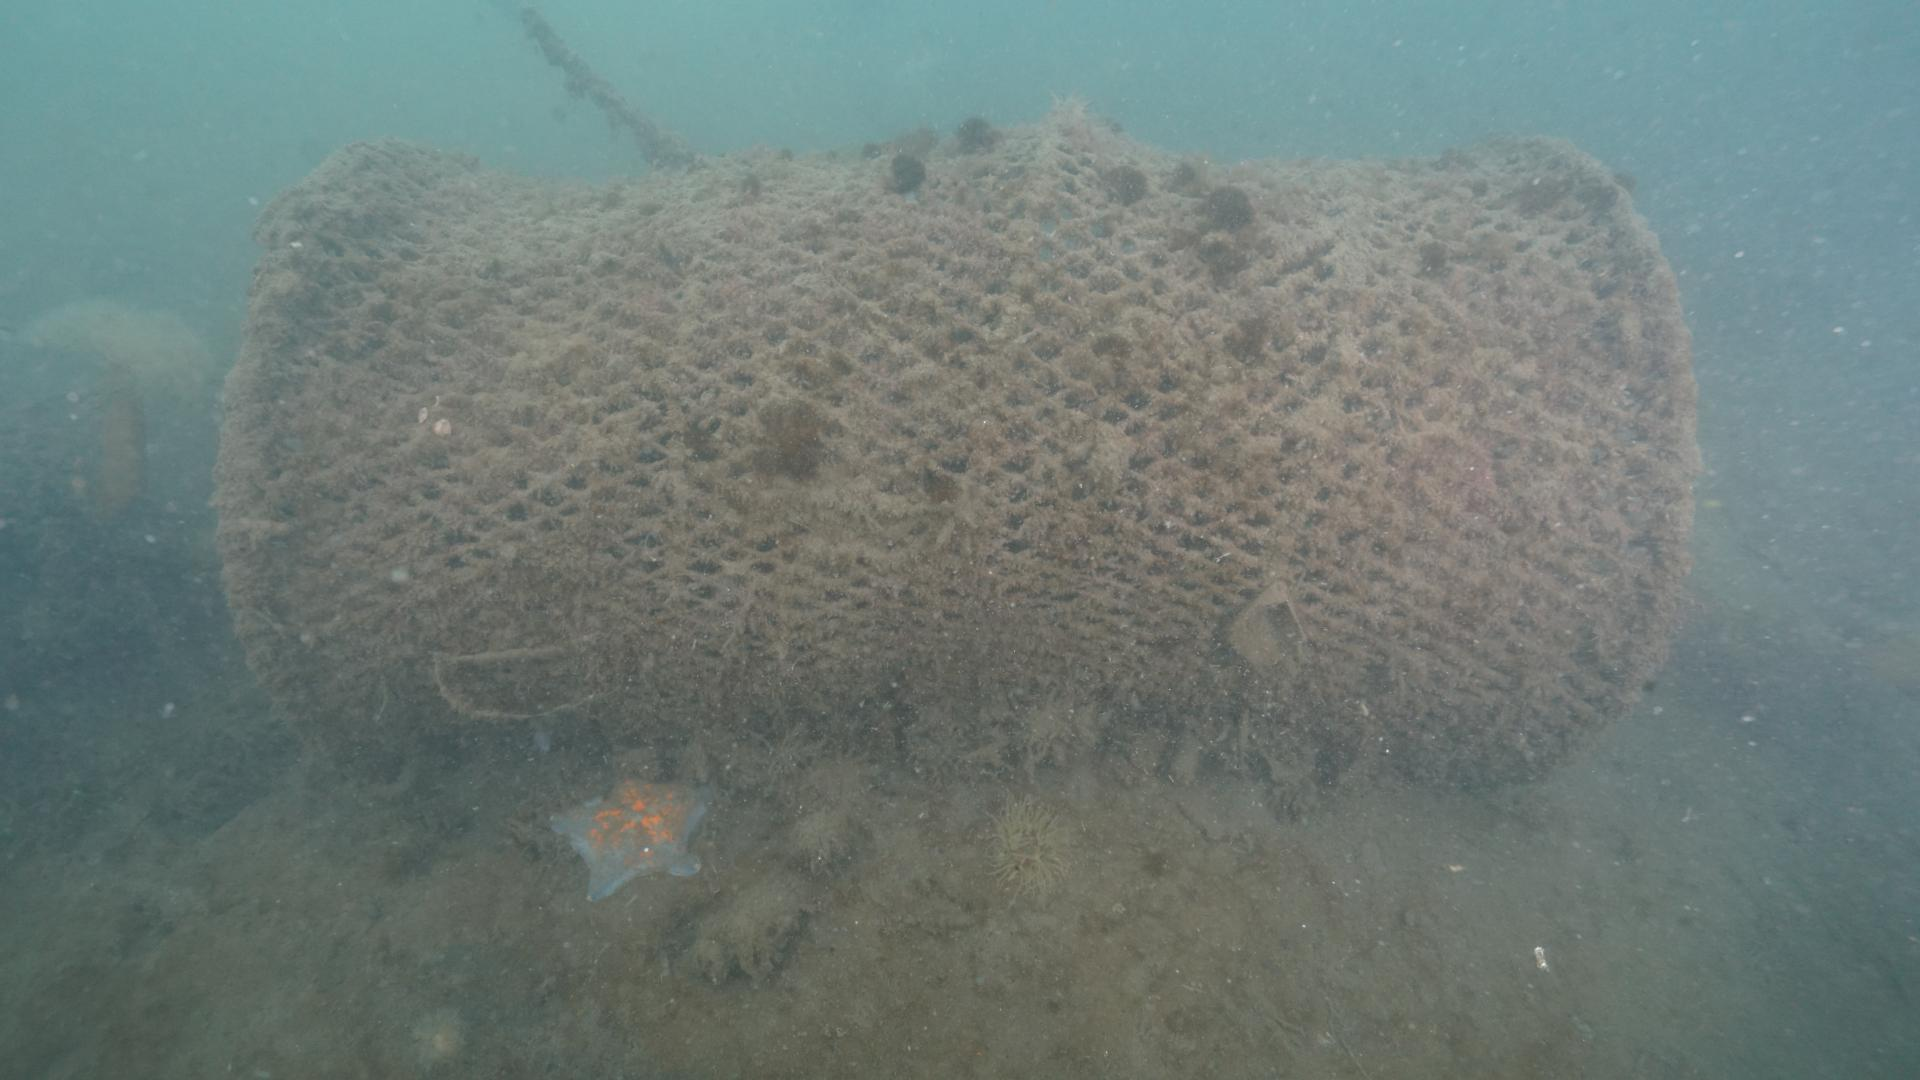rope: (506, 0, 694, 158)
spring fish trap: (204, 96, 1698, 823)
